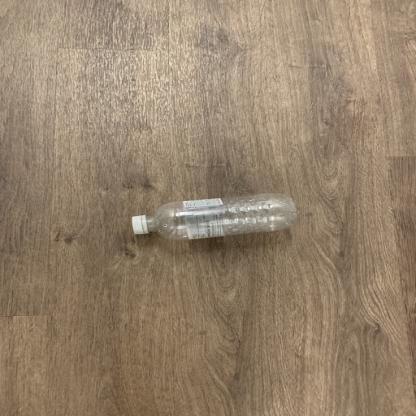trash: (121, 192, 300, 256)
